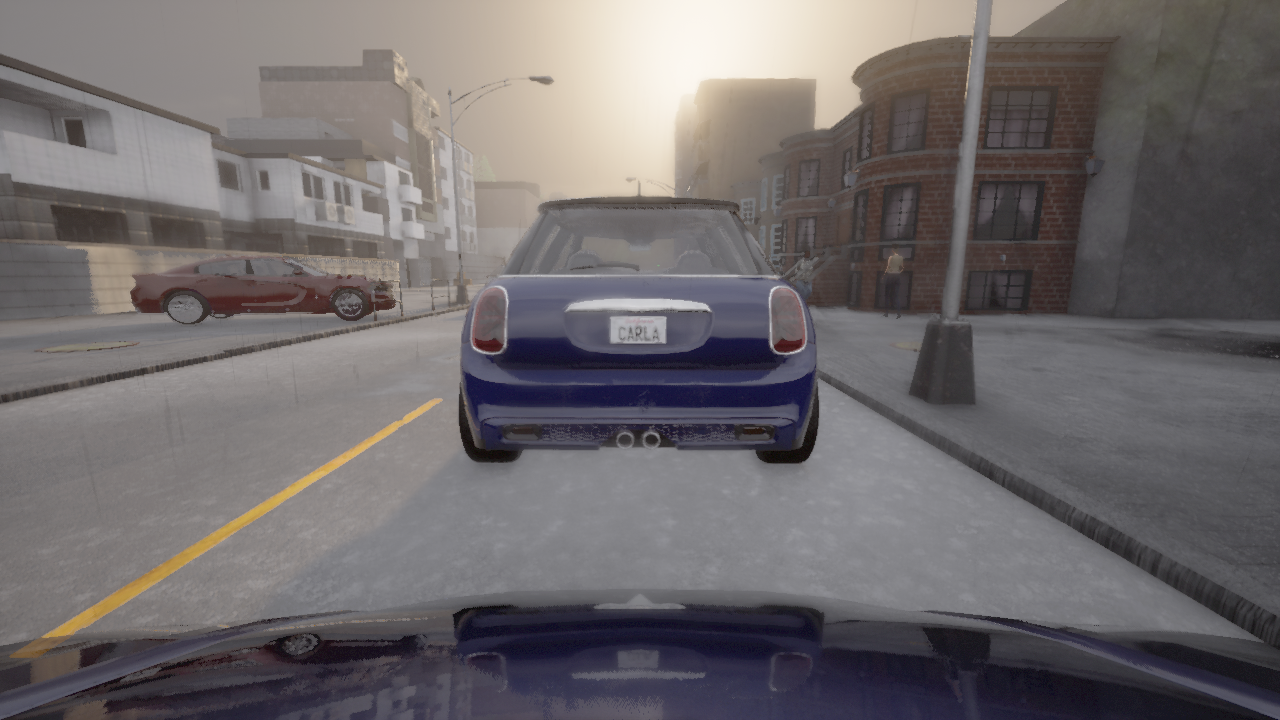cyclist: (0, 588, 1279, 719), (458, 180, 819, 462), (131, 254, 395, 325), (483, 263, 505, 286)
pedestrian: (880, 243, 904, 319), (794, 250, 814, 300)
